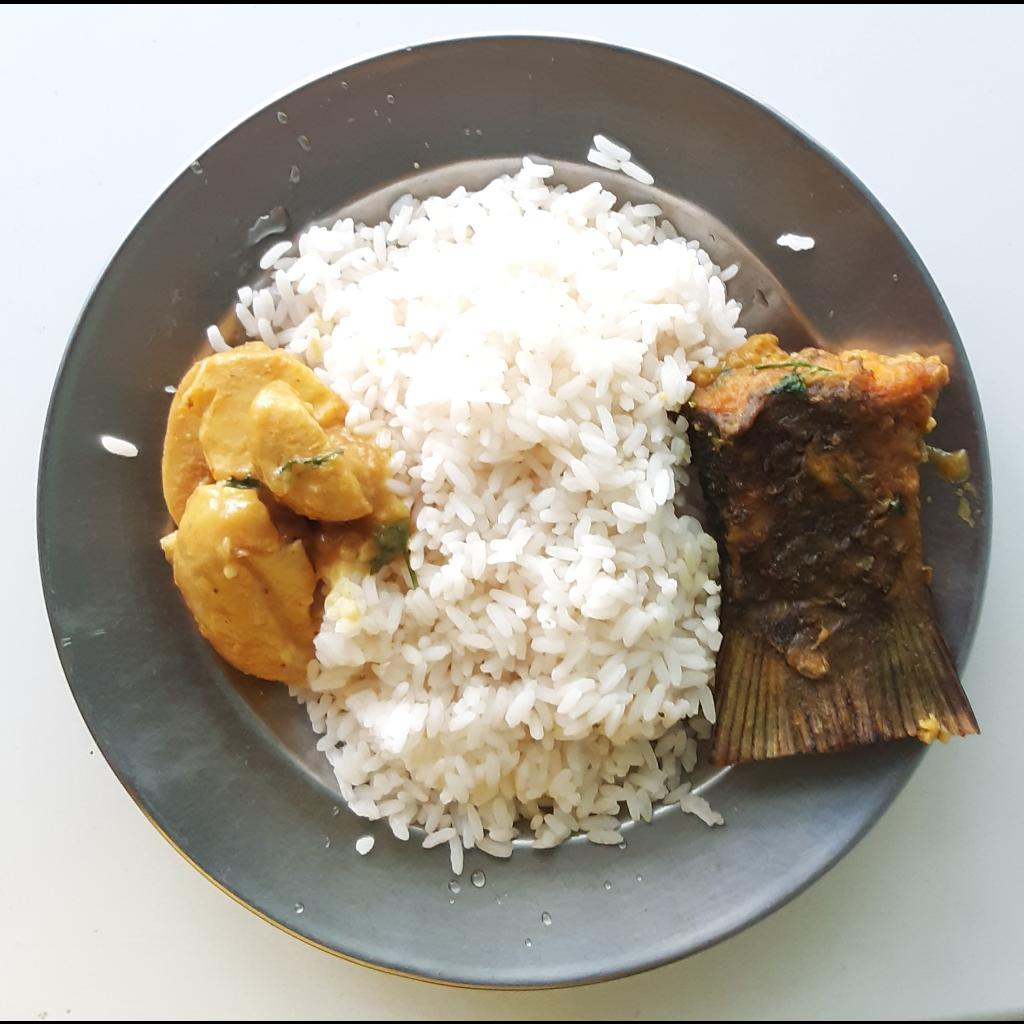fish: (688, 327, 983, 762)
kochu: (157, 338, 414, 686)
rice: (197, 152, 750, 879)
